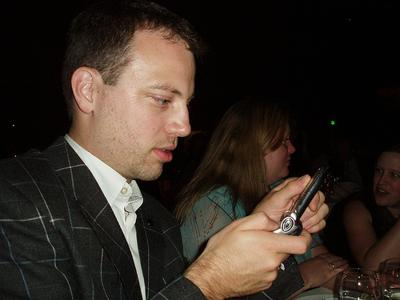person: (2, 2, 327, 300)
